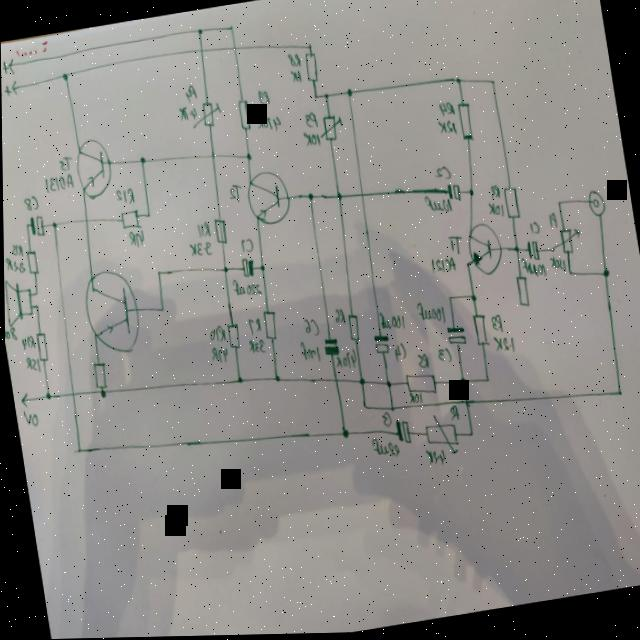capacitor: (392, 418, 413, 449), (522, 236, 543, 266), (445, 324, 468, 350), (370, 334, 392, 360), (445, 180, 464, 208), (28, 212, 45, 239), (322, 337, 340, 358), (240, 258, 255, 279)
crossover: (330, 376, 340, 387), (208, 151, 217, 163), (460, 398, 469, 410), (198, 45, 206, 57), (358, 191, 366, 202), (231, 44, 239, 55), (83, 215, 90, 226), (69, 389, 76, 398)
junction: (339, 427, 349, 442), (345, 88, 354, 100), (61, 70, 70, 82), (459, 376, 467, 388), (602, 269, 610, 281), (384, 379, 392, 390), (470, 294, 478, 305), (513, 245, 521, 256), (245, 151, 253, 162), (140, 154, 147, 166), (273, 374, 281, 384), (358, 376, 365, 387), (307, 192, 314, 203), (222, 264, 229, 275), (259, 263, 266, 274), (45, 389, 52, 400), (468, 188, 475, 199), (336, 191, 343, 202), (236, 374, 243, 385), (456, 76, 463, 87), (51, 219, 58, 230), (100, 388, 107, 399), (313, 92, 320, 102), (388, 404, 395, 414), (197, 27, 204, 36), (556, 200, 563, 209), (491, 78, 498, 87), (483, 376, 490, 385), (447, 295, 454, 304), (467, 430, 474, 439), (323, 92, 330, 101), (616, 391, 623, 400), (362, 402, 369, 411), (34, 302, 41, 311), (75, 446, 82, 455), (307, 43, 314, 52), (33, 287, 39, 296), (156, 269, 162, 276), (160, 306, 166, 313), (229, 25, 235, 32), (567, 271, 572, 279), (146, 211, 151, 217), (25, 221, 30, 227)
resistor: (422, 411, 460, 460), (547, 227, 584, 260), (190, 99, 224, 131), (404, 370, 437, 401), (317, 113, 346, 144), (456, 100, 476, 144), (502, 185, 521, 224), (471, 313, 491, 349), (514, 276, 532, 311), (304, 51, 321, 86), (262, 309, 279, 343), (237, 98, 253, 132), (91, 360, 109, 390), (346, 313, 363, 344), (213, 218, 230, 248), (226, 321, 242, 351), (25, 248, 41, 277), (35, 329, 49, 362), (120, 208, 141, 230)
terminal: (585, 189, 608, 220), (19, 391, 30, 409), (11, 78, 20, 97), (8, 56, 16, 75)
text: (231, 274, 263, 301), (369, 436, 400, 463), (415, 300, 446, 327), (43, 170, 75, 195), (424, 194, 454, 219), (253, 81, 277, 110), (297, 339, 321, 367), (255, 112, 284, 135), (378, 310, 406, 333), (333, 348, 358, 373), (430, 255, 458, 277), (492, 334, 517, 357), (522, 259, 548, 281), (3, 254, 28, 275), (188, 239, 213, 259), (425, 447, 447, 469), (437, 118, 459, 139), (207, 324, 228, 346), (446, 234, 464, 259), (301, 317, 320, 339), (22, 407, 40, 430), (246, 337, 267, 356), (115, 186, 135, 205), (210, 346, 230, 365), (549, 256, 568, 276), (128, 229, 146, 250), (303, 110, 320, 132), (24, 353, 41, 375), (545, 211, 560, 235), (438, 100, 456, 120), (179, 104, 199, 122), (246, 316, 263, 337), (227, 182, 243, 204), (392, 342, 408, 364), (433, 166, 452, 184), (486, 201, 504, 220), (303, 130, 321, 149), (20, 333, 37, 352), (23, 193, 40, 212), (239, 237, 256, 256), (196, 220, 212, 240), (414, 351, 430, 371), (436, 347, 452, 367), (489, 315, 504, 336), (287, 51, 303, 70), (4, 322, 18, 343), (58, 154, 74, 172), (333, 307, 346, 328), (184, 84, 198, 103), (528, 220, 542, 239), (489, 184, 503, 203), (407, 391, 423, 407), (290, 69, 304, 87), (380, 411, 393, 430), (10, 242, 25, 258), (1, 79, 12, 100), (1, 57, 11, 79), (449, 405, 460, 422)
transistor: (79, 264, 146, 361), (243, 166, 295, 230), (73, 134, 117, 201), (464, 221, 506, 277)
